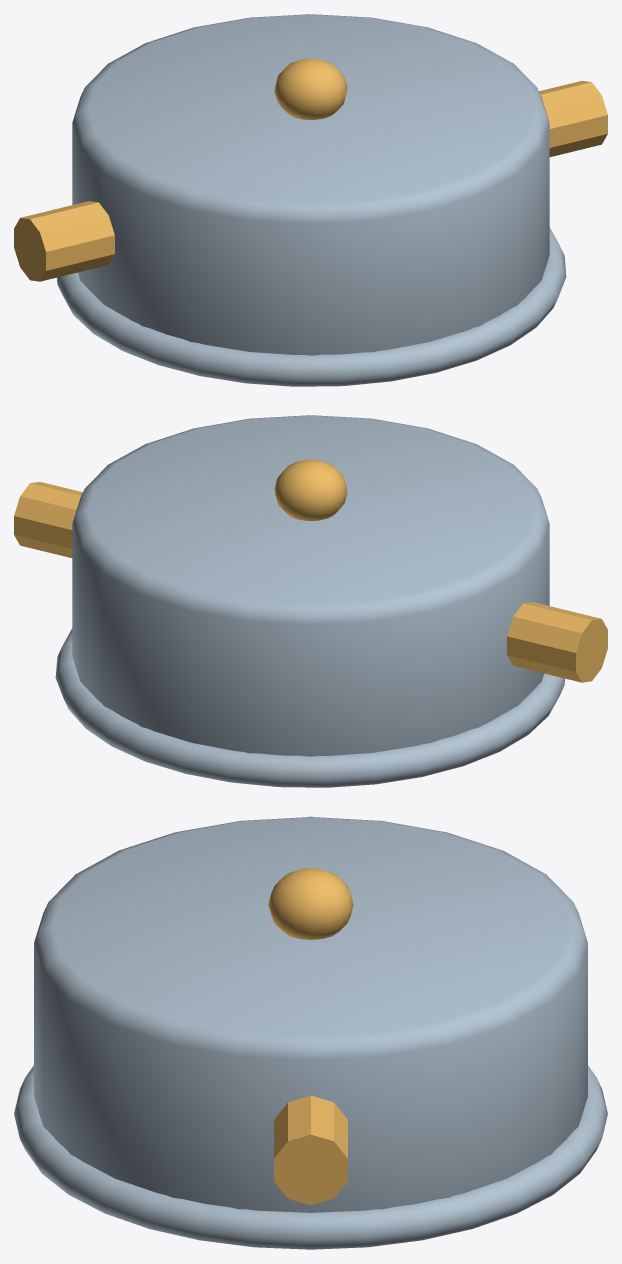
The model's file is hat_pot.glb.
The picture shows the model from 3 angles, top to bottom: view 1: azimuth 30°, elevation 25°; view 2: azimuth 150°, elevation 25°; view 3: azimuth 270°, elevation 25°; orthographic projection. The views are drawn at different scales.
Parts seen in each view (by area): view 1: hat_pot; view 2: hat_pot; view 3: hat_pot.
Boxes of the visible parts, x1,y1,x2,y2 form: hat_pot: (14,14,607,386); hat_pot: (14,415,607,787); hat_pot: (14,816,607,1249).
Bounding box in the file's own units: 1.06 × 0.403 × 0.836.
